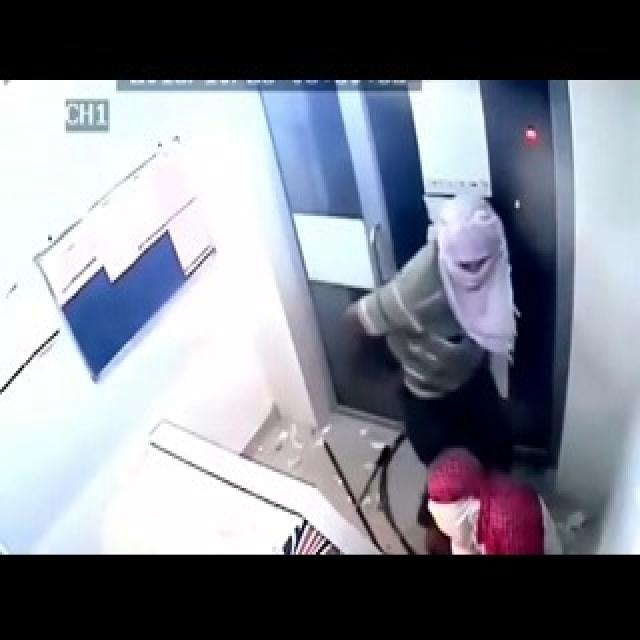thief: (343, 224, 542, 557)
